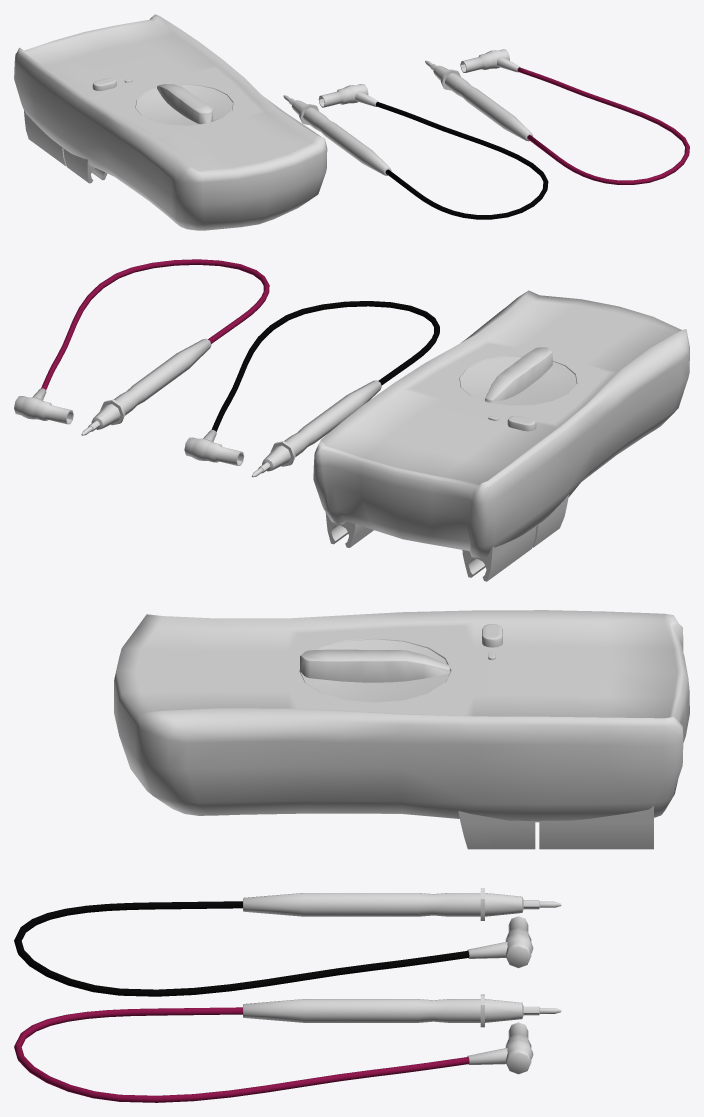
Rendered from WanYongBiao.FBX.
The picture shows the model from 3 angles, top to bottom: view 1: azimuth 30°, elevation 25°; view 2: azimuth 150°, elevation 25°; view 3: azimuth 270°, elevation 25°; orthographic projection. The views are drawn at different scales.
Visible parts, largest first — view 1: WanYongB, XuanNiu, Line001, Line002, BB002, BB1, BBT, BBT001; view 2: WanYongB, XuanNiu, BB002, BB1, Line002, Line001, BBT, BBT001; view 3: WanYongB, XuanNiu, BB1, BB002, Line001, Line002, BBT001, BBT.
Part boxes in pixels (x1=…): WanYongB: x1=14, y1=14, x2=327, y2=230; XuanNiu: x1=135, y1=84, x2=232, y2=125; Line001: x1=375, y1=102, x2=548, y2=219; Line002: x1=517, y1=67, x2=689, y2=184; BB002: x1=425, y1=60, x2=532, y2=141; BB1: x1=283, y1=95, x2=391, y2=175; BBT: x1=318, y1=84, x2=378, y2=107; BBT001: x1=460, y1=49, x2=520, y2=72; WanYongB: x1=313, y1=290, x2=689, y2=581; XuanNiu: x1=459, y1=347, x2=576, y2=405; BB002: x1=81, y1=338, x2=211, y2=435; BB1: x1=251, y1=380, x2=381, y2=477; Line002: x1=41, y1=259, x2=269, y2=390; Line001: x1=211, y1=301, x2=439, y2=431; BBT: x1=184, y1=430, x2=244, y2=465; BBT001: x1=14, y1=388, x2=73, y2=424; WanYongB: x1=114, y1=610, x2=689, y2=849; XuanNiu: x1=299, y1=639, x2=450, y2=702; BB1: x1=243, y1=888, x2=561, y2=920; BB002: x1=243, y1=994, x2=561, y2=1027; Line001: x1=14, y1=901, x2=469, y2=996; Line002: x1=14, y1=1007, x2=469, y2=1102; BBT001: x1=467, y1=1022, x2=533, y2=1074; BBT: x1=467, y1=916, x2=533, y2=968.
Bounding box in the file's own units: 0.2906 × 0.053 × 0.223.
